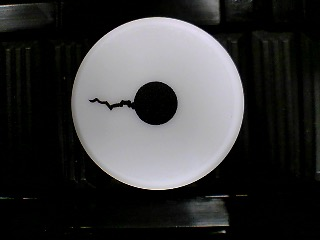CRACK: (71, 16, 245, 191)
